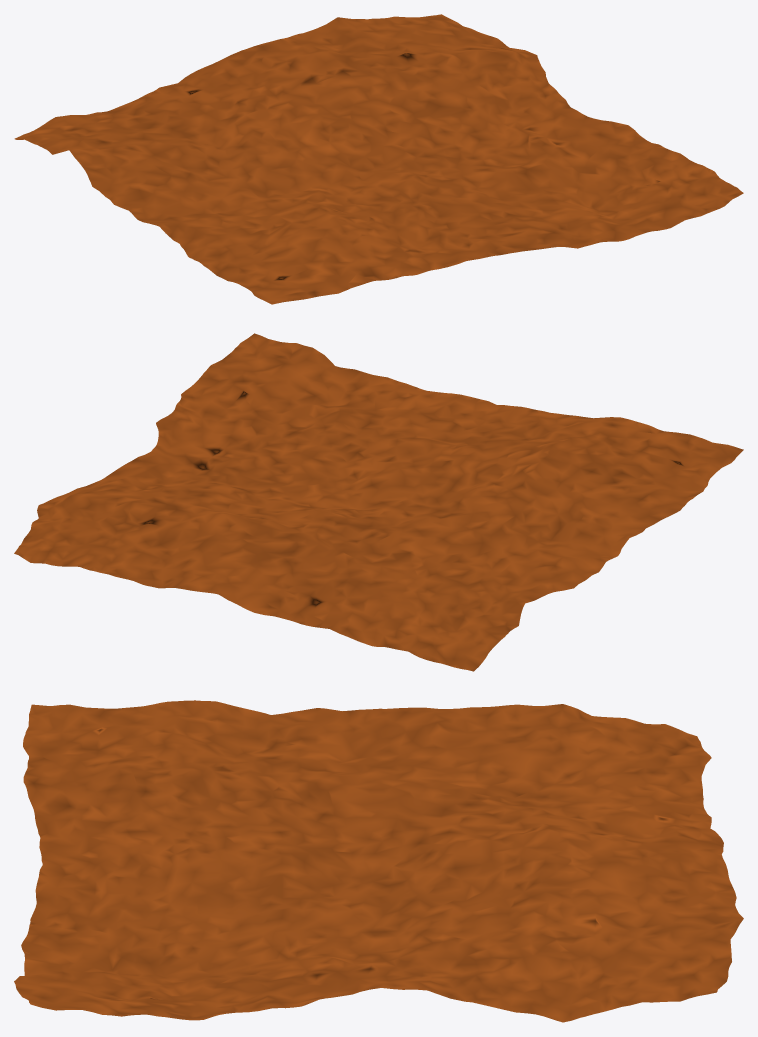
Rendered from Environment_1.obj.
The picture shows the model from 3 angles, top to bottom: view 1: azimuth 30°, elevation 25°; view 2: azimuth 150°, elevation 25°; view 3: azimuth 270°, elevation 25°; orthographic projection. The views are drawn at different scales.
Visible parts, largest first — view 1: Environment_1; view 2: Environment_1; view 3: Environment_1.
Boxes of the visible parts, left/top/right/bottom form: Environment_1: left=14, top=14, right=743, bottom=304; Environment_1: left=14, top=333, right=743, bottom=671; Environment_1: left=14, top=700, right=743, bottom=1022.
Bounding box in the file's own units: 2142 × 174 × 2155.
